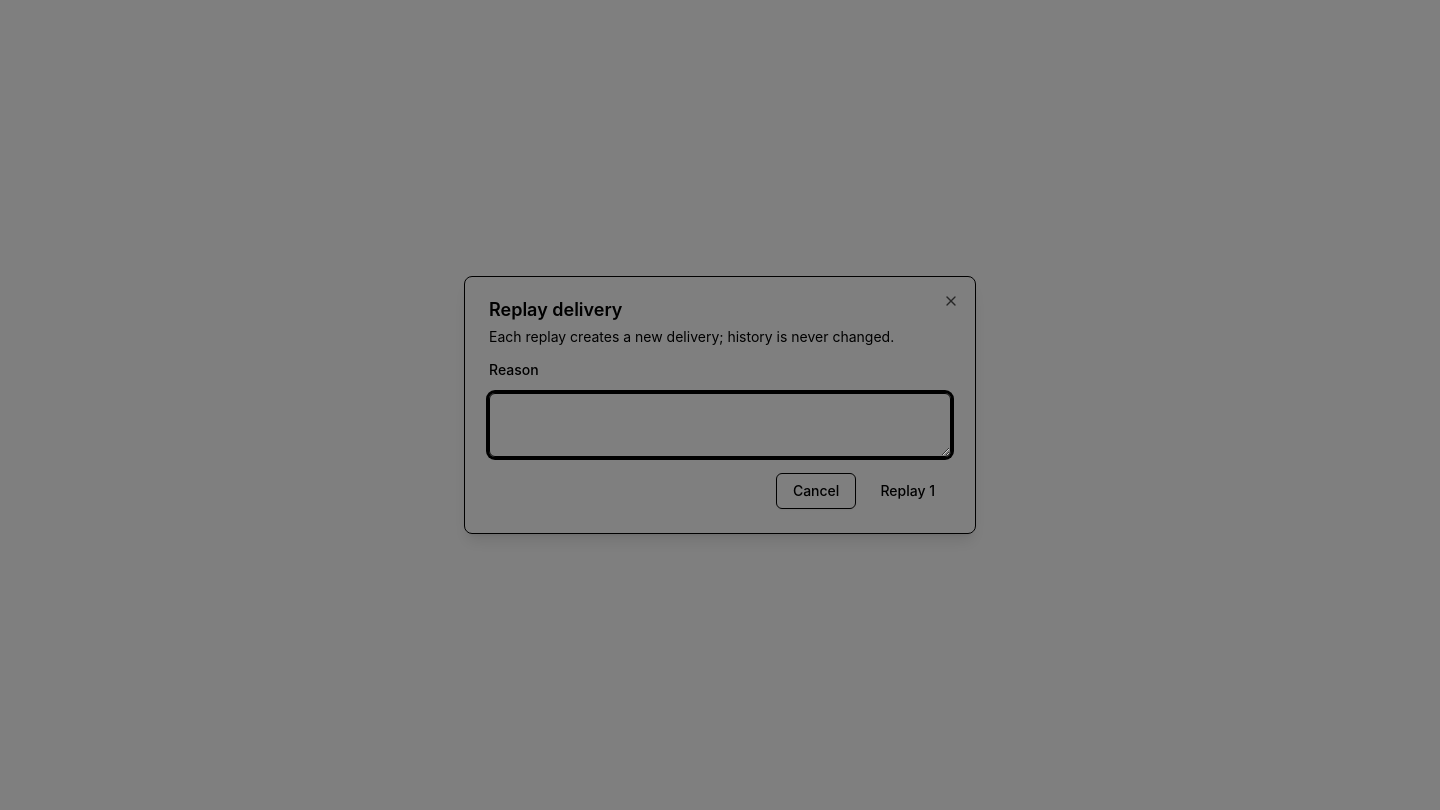
it: ReplayDialog › requires a reason before sending
This screenshot has width=1440, height=810.
Click the button "Replay 1": point(908, 491) [864,473,951,509]
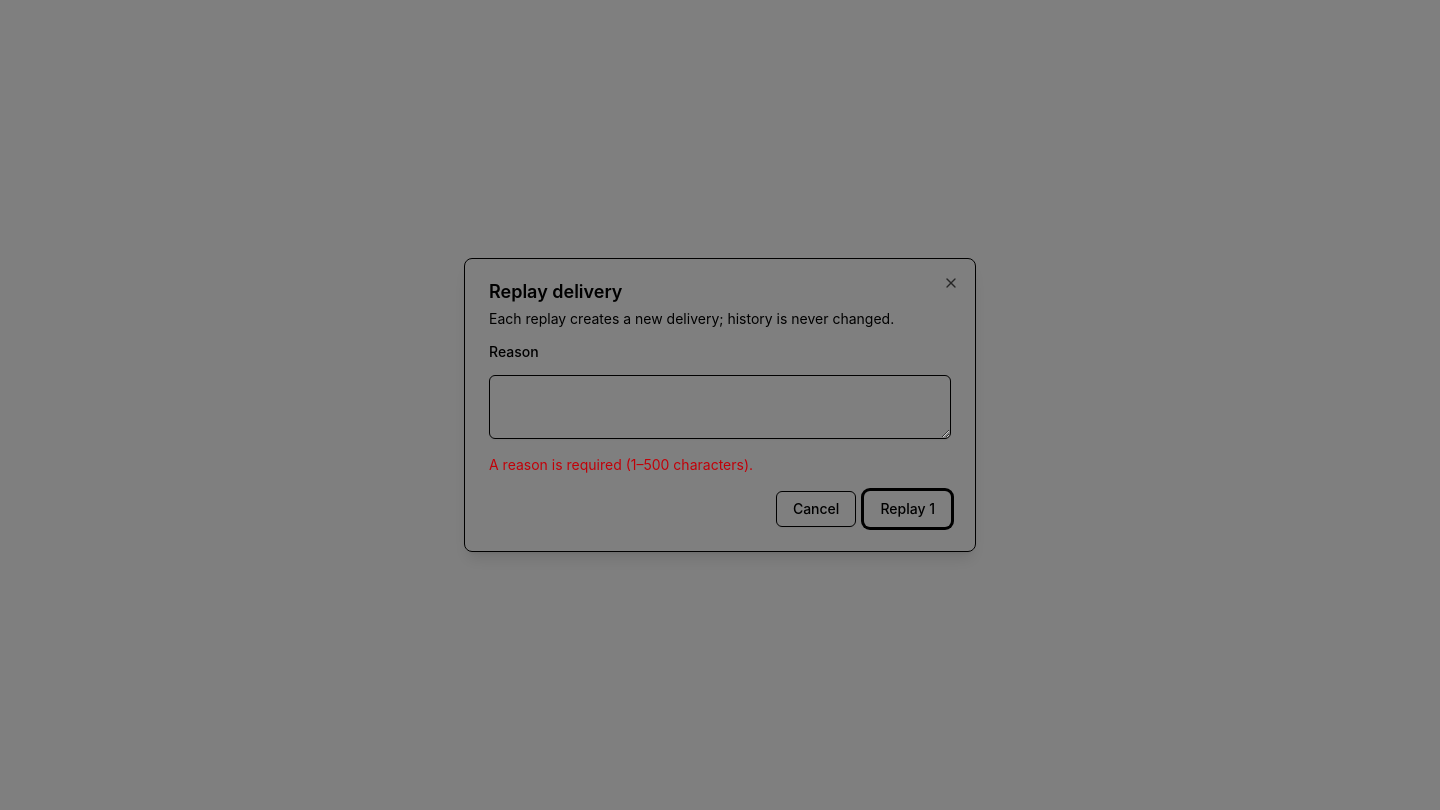
Now the text "A reason is required (1–500 characters)." is shown, box [489,456,753,473]
